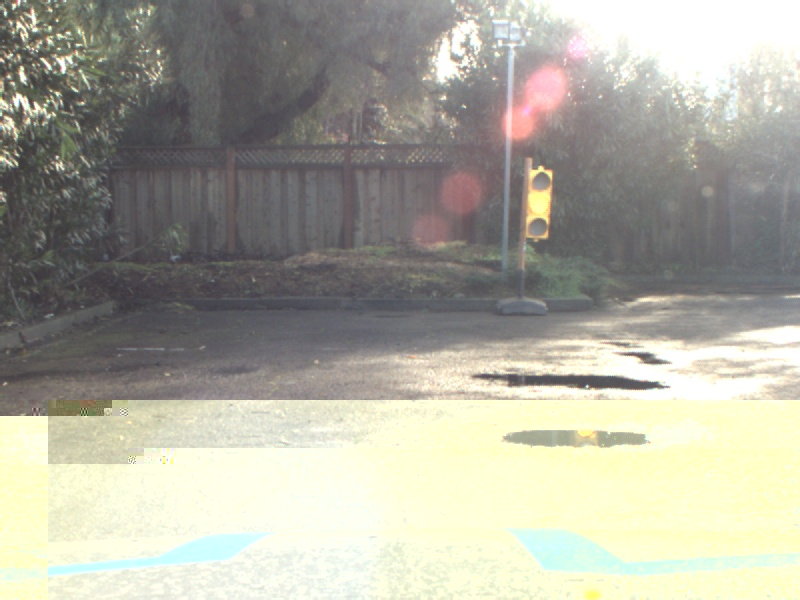Yellow: (523, 170, 550, 238)
